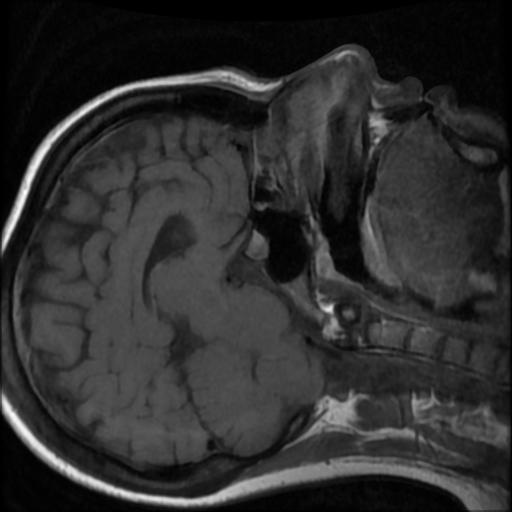pituitary tumour: (247, 229, 268, 262)
